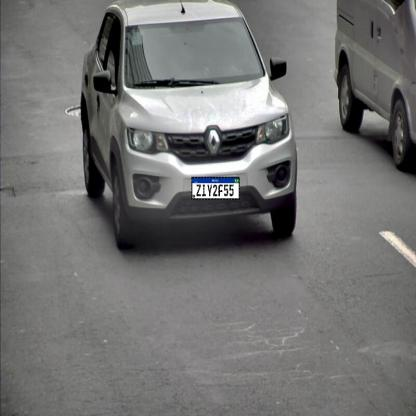PlacaM: (191, 176, 240, 200)
